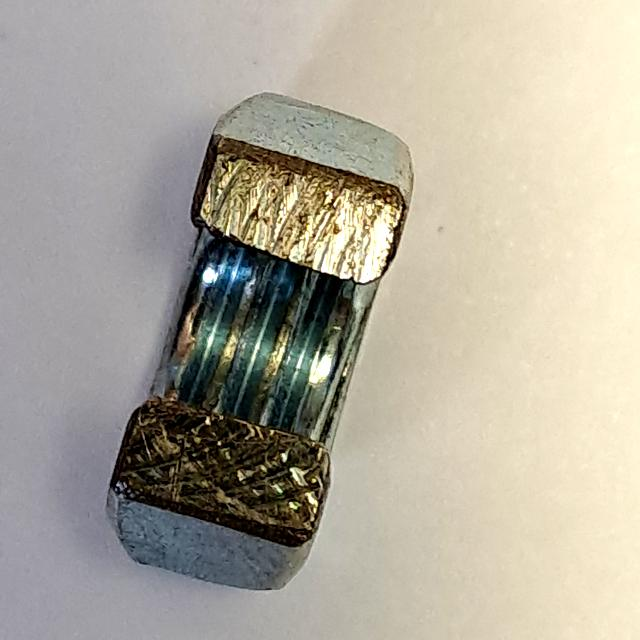Side-Fracture: (93, 85, 421, 600)
